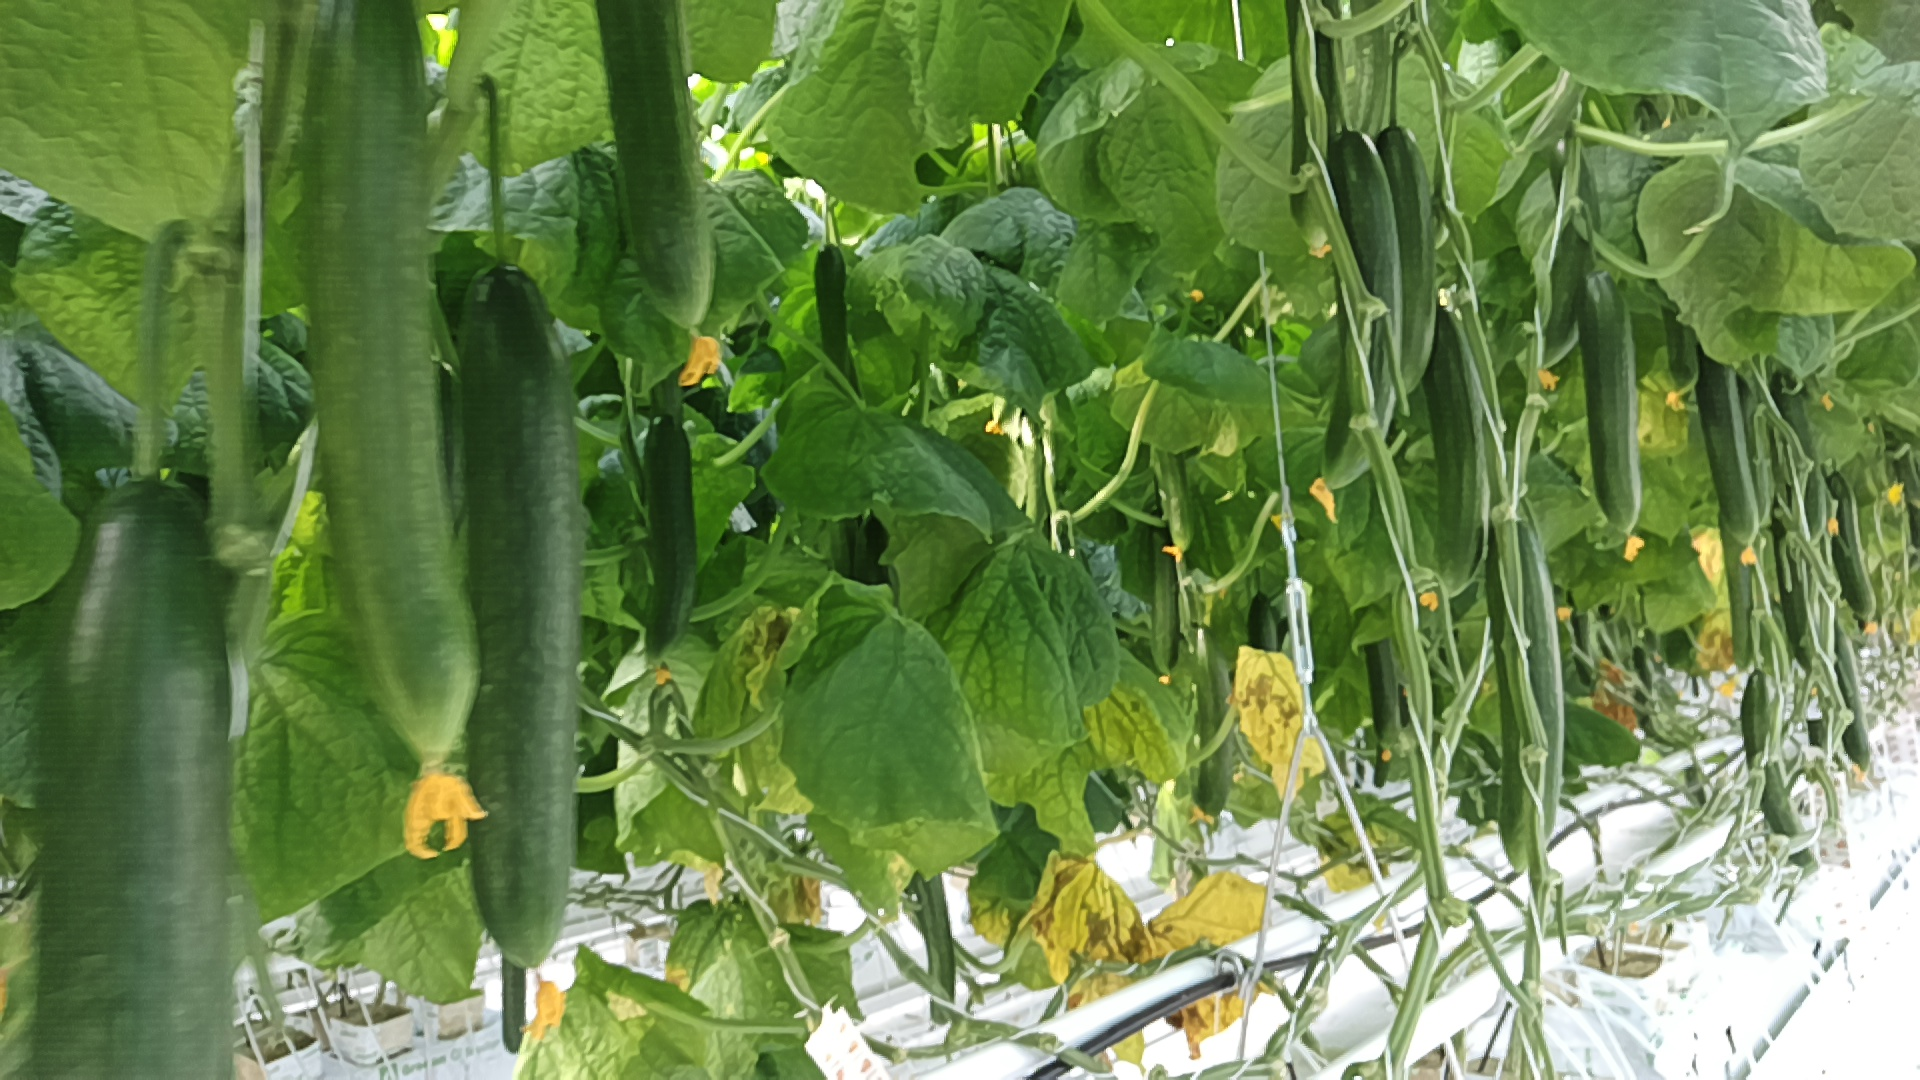gurka: (429, 258, 597, 978), (1309, 117, 1404, 509), (1560, 247, 1676, 541), (632, 411, 716, 698), (1414, 301, 1491, 587)
